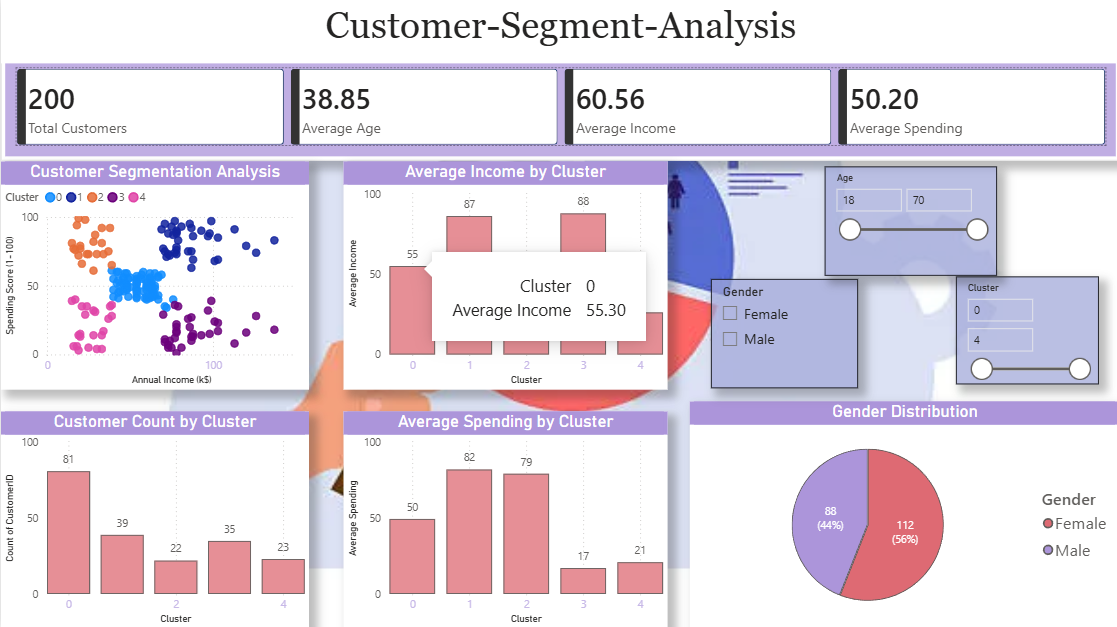

What the dashboard file says about the page in this screenshot:
{"tool":"powerbi","page":{"name":"Page 1","canvas":[1280,720],"ordinal":0},"visuals":[{"type":"cardVisual","fields":{"Data":["Sheet1.Total Customers","Sheet1.Average Age","Sheet1.Average Income","Sheet1.Average Spending"]},"box":[0,0,1280,124],"z":0},{"type":"scatterChart","title":"Customer Segmentation Analysis","fields":{"X":["Sheet1.Annual Income (k$)"],"Y":["Sheet1.Spending Score (1-100)"],"Series":["Sheet1.Cluster"]},"box":[0,136,362,310],"z":1000},{"type":"clusteredColumnChart","title":"Customer Count by Cluster","fields":{"Category":["Sheet1.Cluster"],"Y":["CountNonNull(Sheet1.CustomerID)"]},"box":[0,472,316,248],"z":2000},{"type":"clusteredColumnChart","fields":{"Category":["Sheet1.Cluster"],"Y":["Sheet1.Average Income"]},"box":[386,186,370,260],"z":3000},{"type":"clusteredColumnChart","fields":{"Category":["Sheet1.Cluster"],"Y":["Sheet1.Average Spending"]},"box":[446,472,324,248],"z":4000},{"type":"pieChart","title":"Gender Distribution","fields":{"Category":["Sheet1.Gender"],"Y":["CountNonNull(Sheet1.CustomerID)"]},"box":[788,278,492,260],"z":5000},{"type":"slicer","fields":{"Values":["Sheet1.Gender"]},"box":[788,136,230,126],"z":6000},{"type":"slicer","fields":{"Values":["Sheet1.Cluster"]},"box":[946,570,178,124],"z":7000},{"type":"slicer","fields":{"Values":["Sheet1.Age"]},"box":[1036,136,232,124],"z":8000}]}

Visuals, with their boxes in screenshot pixels (x1, y1, x2, y2), scaled from the page's 1280x720 canvas onto the 1117x627 screenshot:
cardVisual - Sheet1.Total Customers x Sheet1.Average Age: [x1=0, y1=0, x2=1116, y2=108]
"Customer Segmentation Analysis" scatterChart: [x1=0, y1=118, x2=316, y2=388]
"Customer Count by Cluster" clusteredColumnChart: [x1=0, y1=411, x2=276, y2=626]
clusteredColumnChart - Sheet1.Cluster x Sheet1.Average Income: [x1=337, y1=162, x2=660, y2=388]
clusteredColumnChart - Sheet1.Cluster x Sheet1.Average Spending: [x1=389, y1=411, x2=672, y2=626]
"Gender Distribution" pieChart: [x1=688, y1=242, x2=1116, y2=469]
slicer - Sheet1.Gender: [x1=688, y1=118, x2=888, y2=228]
slicer - Sheet1.Cluster: [x1=826, y1=496, x2=981, y2=604]
slicer - Sheet1.Age: [x1=904, y1=118, x2=1107, y2=226]
